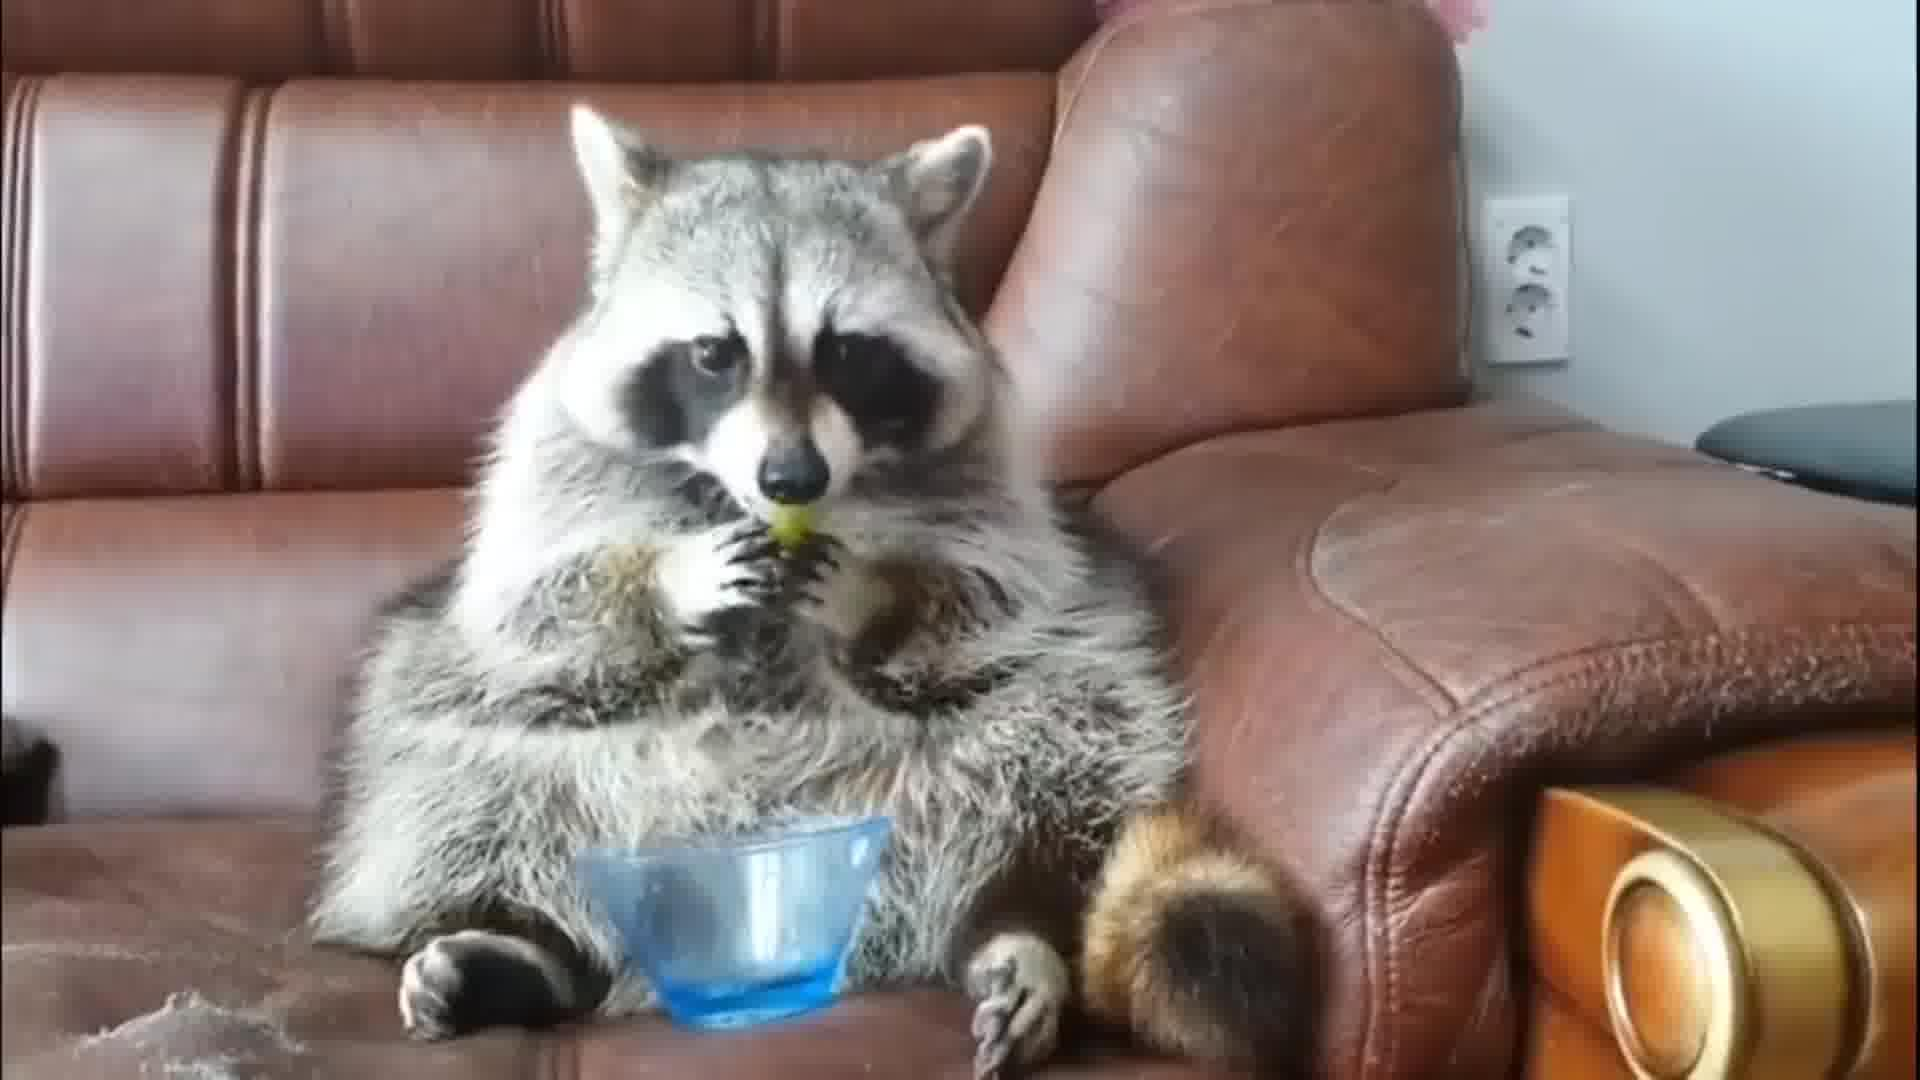raccoon: (313, 98, 1345, 1080)
